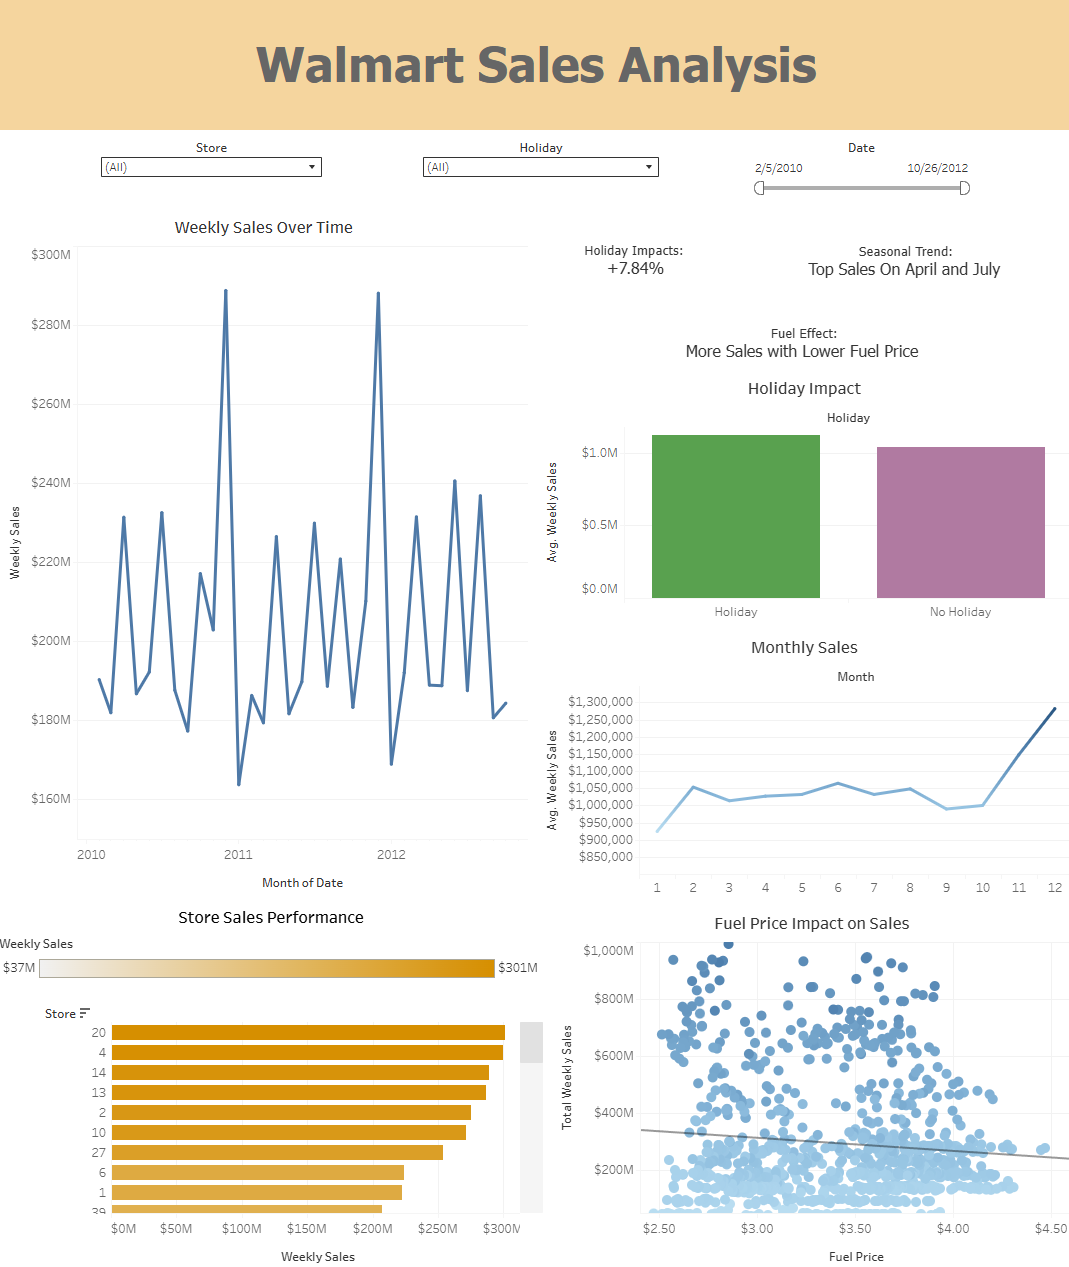

The page's visual inventory and layout, read from the dashboard file:
{"tool":"tableau","page":{"name":"Walmart Sales Analysis","canvas":[1100,1300],"ordinal":0},"visuals":[{"type":"text","box":[9,9,1082,142]},{"type":"blank","box":[9,151,101,77]},{"type":"filter","title":"Weekly Sales Over Time","param":"[federated.11d0a161hhdji019m90jc18hbzsv].[none:Store:ok]","box":[110,151,231,77]},{"type":"blank","box":[341,151,91,77]},{"type":"filter","title":"Sales by Store","param":"[federated.11d0a161hhdji019m90jc18hbzsv].[none:Holiday Flag (copy)_7881299532039","box":[432,151,246,77]},{"type":"blank","box":[678,151,83,77]},{"type":"filter","title":"Sales by Store","param":"[federated.11d0a161hhdji019m90jc18hbzsv].[none:Date:qk]","box":[761,151,229,77]},{"type":"blank","box":[990,151,101,77]},{"type":"worksheet","title":"Weekly Sales Over Time","mark":"Automatic","rows":["Weekly_Sales"],"cols":["Date"],"box":[9,228,537,661]},{"type":"worksheet","title":"Holiday Impact: Average Weekly Sales Difference","mark":"Automatic","box":[546,228,205,120]},{"type":"worksheet","title":"Seasonal Trend","mark":"Automatic","box":[751,228,340,120]},{"type":"worksheet","title":"Fuel Price vs Sales Trend","mark":"Automatic","box":[546,348,545,62]},{"type":"worksheet","title":"Holiday vs No Holiday Weekly Sales","mark":"Automatic","rows":["Weekly_Sales"],"cols":["Holiday Flag (copy)_788129953203904515"],"box":[546,410,545,263]},{"type":"worksheet","title":"Seasonal Sales Trend","mark":"Line","rows":["Weekly_Sales"],"cols":["Calculation_788129953211539464"],"box":[546,673,545,216]},{"type":"text","box":[9,889,536.5,41]},{"type":"worksheet","title":"Fuel Price vs Weekly Sales","mark":"Circle","rows":["Total_Weekly_Sales"],"cols":["Fuel_Price"],"box":[545.5,889,545.5,402]},{"type":"legend","title":"Sales by Store","param":"[federated.11d0a161hhdji019m90jc18hbzsv].[sum:Weekly_Sales:qk]","box":[9,930,536.5,67]},{"type":"worksheet","title":"Sales by Store","mark":"Automatic","rows":["Store"],"cols":["Weekly_Sales"],"box":[9,997,536.5,294]}]}

Visuals, with their boxes in screenshot pixels (x1, y1, x2, y2), scaled from the page's 1100x1300 canvas onto the 1069x1267 screenshot:
text: crop(9, 9, 1060, 147)
blank: crop(9, 147, 107, 222)
"Weekly Sales Over Time" filter: crop(107, 147, 331, 222)
blank: crop(331, 147, 420, 222)
"Sales by Store" filter: crop(420, 147, 659, 222)
blank: crop(659, 147, 740, 222)
"Sales by Store" filter: crop(740, 147, 962, 222)
blank: crop(962, 147, 1060, 222)
"Weekly Sales Over Time" worksheet: crop(9, 222, 531, 866)
"Holiday Impact: Average Weekly Sales Difference" worksheet: crop(531, 222, 730, 339)
"Seasonal Trend" worksheet: crop(730, 222, 1060, 339)
"Fuel Price vs Sales Trend" worksheet: crop(531, 339, 1060, 400)
"Holiday vs No Holiday Weekly Sales" worksheet: crop(531, 400, 1060, 656)
"Seasonal Sales Trend" worksheet (Line marks): crop(531, 656, 1060, 866)
text: crop(9, 866, 530, 906)
"Fuel Price vs Weekly Sales" worksheet (Circle marks): crop(530, 866, 1060, 1258)
"Sales by Store" legend: crop(9, 906, 530, 972)
"Sales by Store" worksheet: crop(9, 972, 530, 1258)
